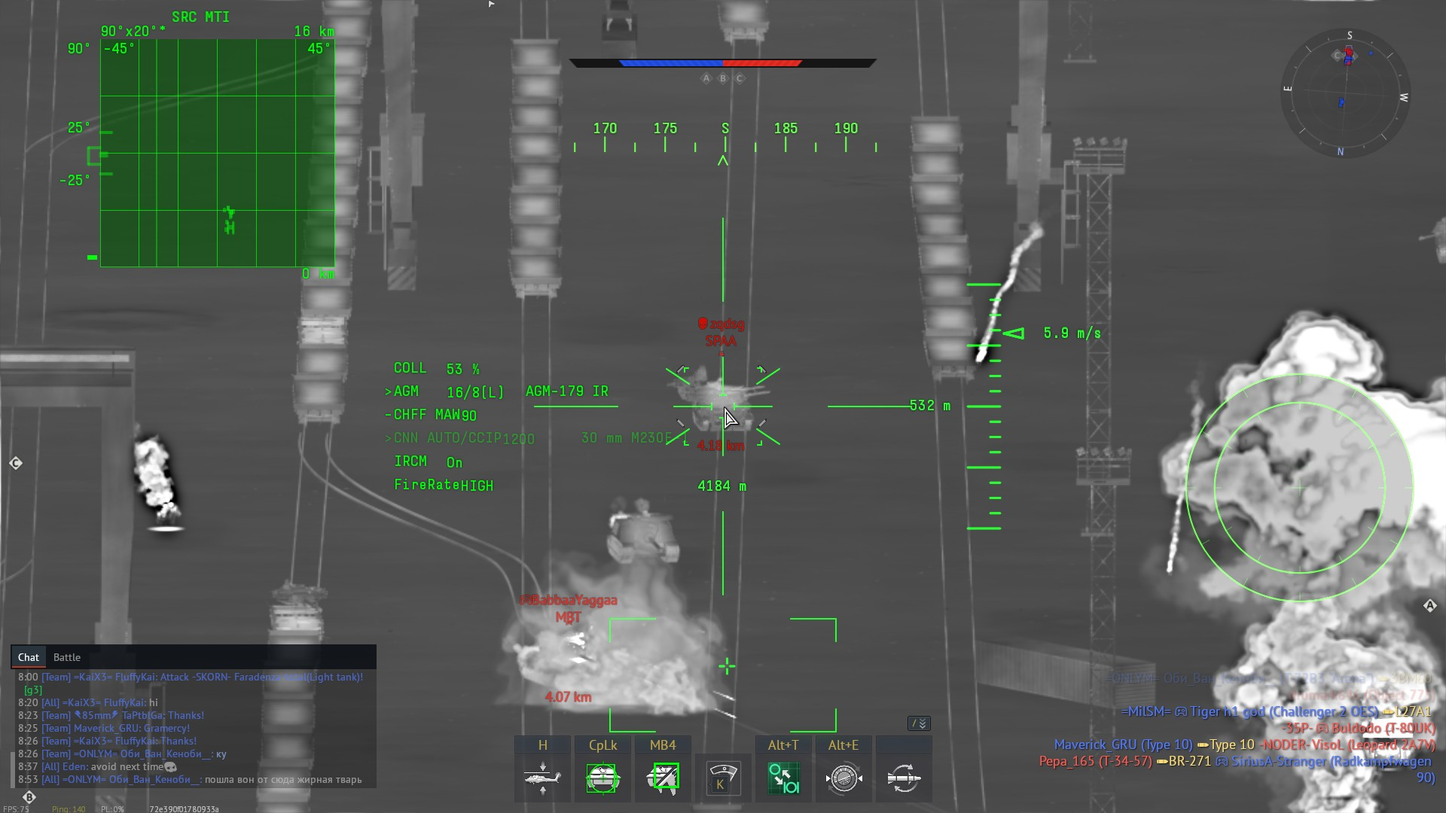spaa_zsu-23: (665, 366, 771, 430)
